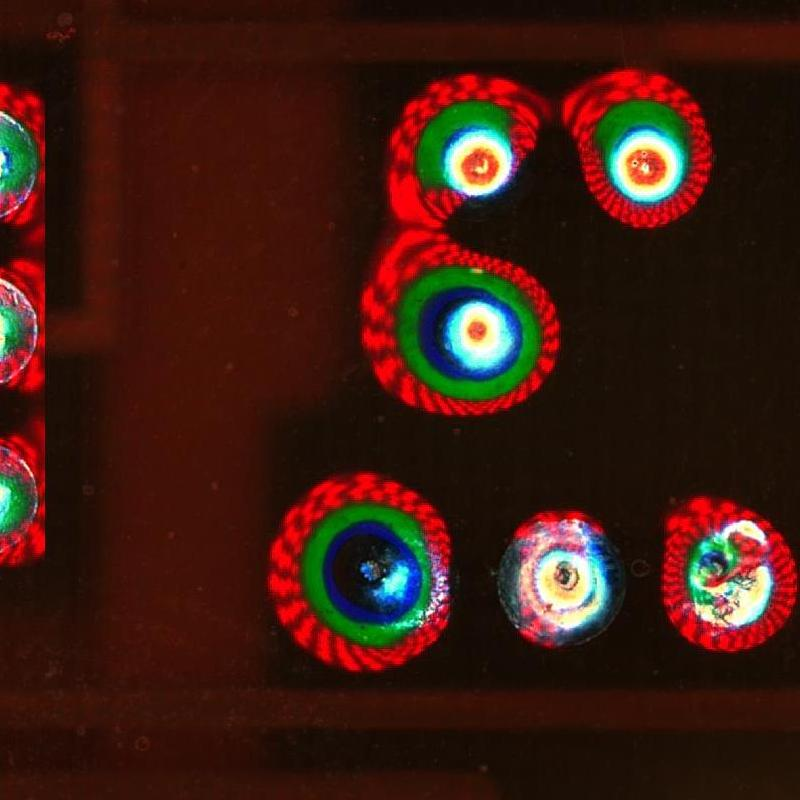bad: (482, 494, 641, 687)
